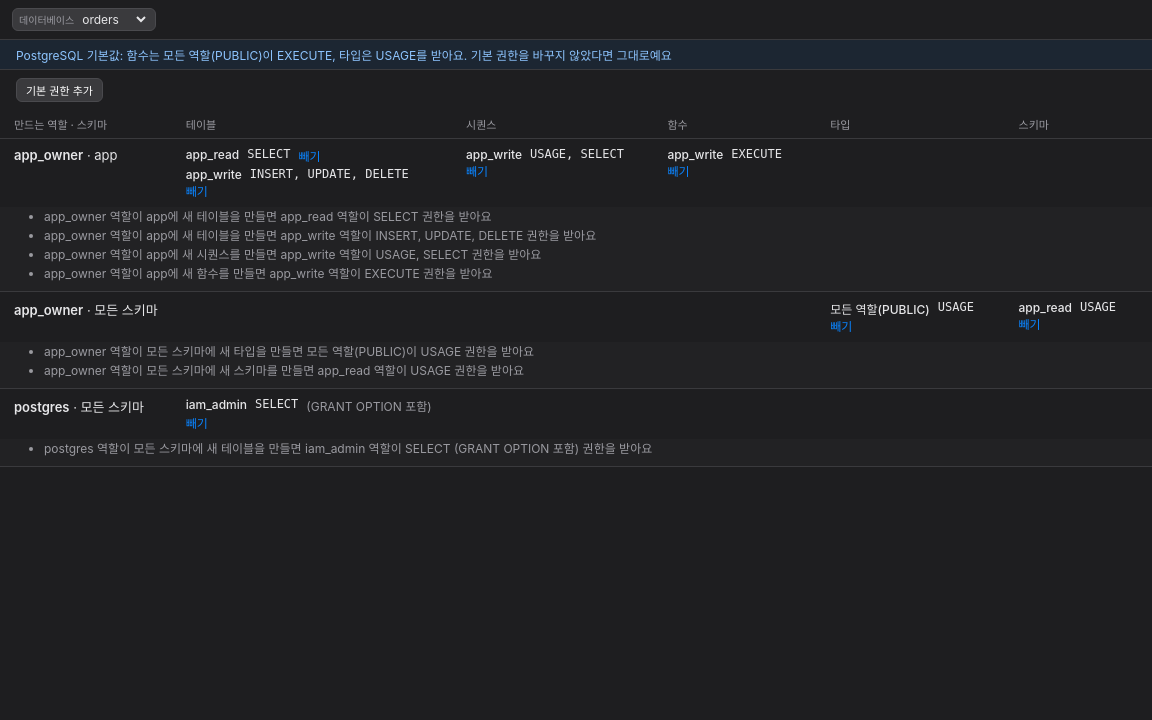
Test case: 기본 권한 추가 › 담기 needs a privilege
The width and height of the screenshot is (1152, 720).
Click the button "기본 권한 추가" at point(59, 90), box x1=16 y1=78 x2=103 y2=102
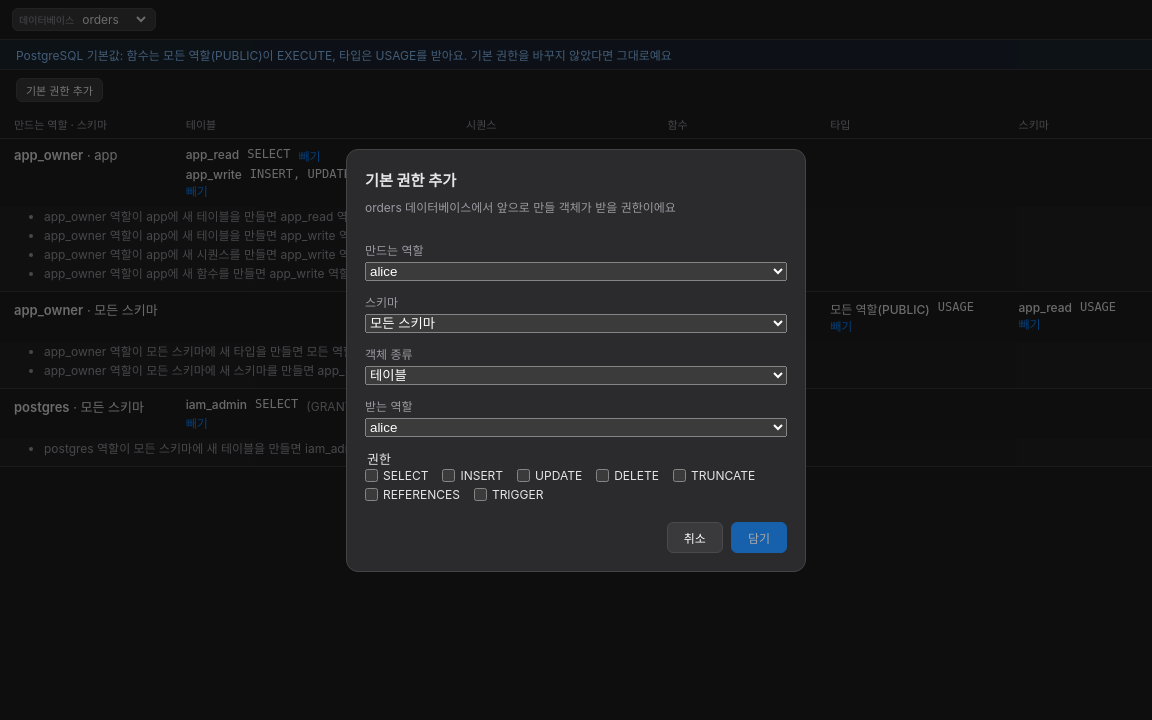
Expected: the button "담기" is disabled, x1=731 y1=522 x2=787 y2=552
